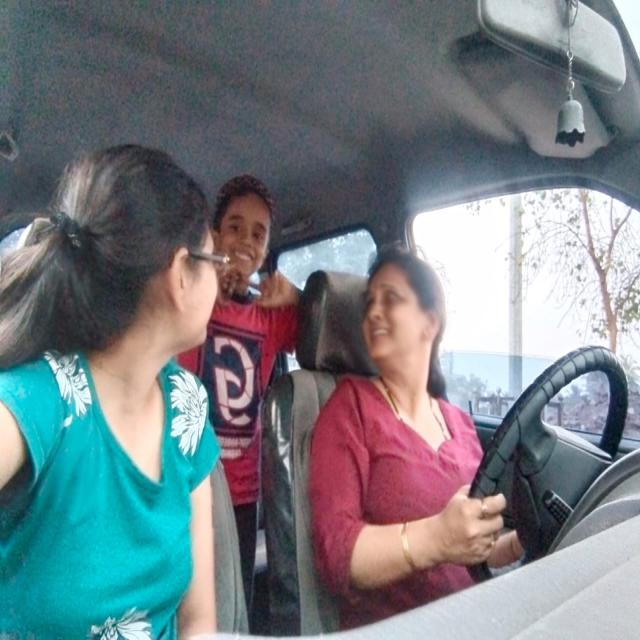LeftRight: (354, 243, 449, 373)
person: (65, 138, 229, 366), (214, 174, 278, 288)
talking: (366, 324, 396, 344)
